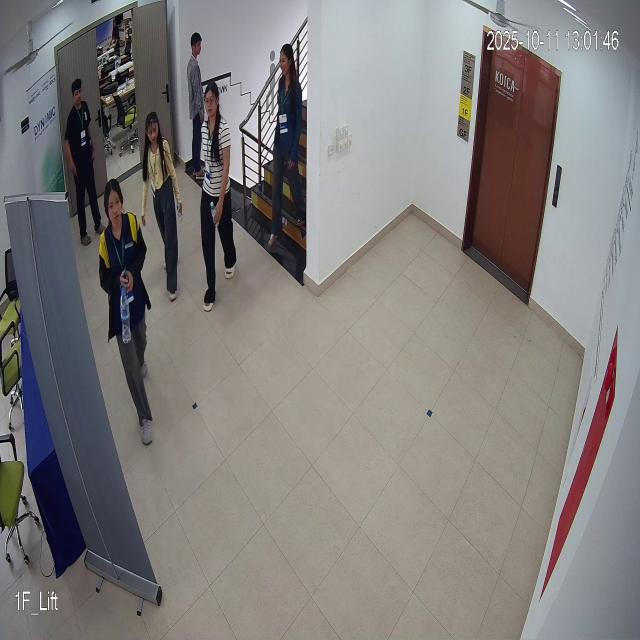face: (103, 177, 126, 231), (144, 106, 162, 147), (203, 80, 221, 119)
